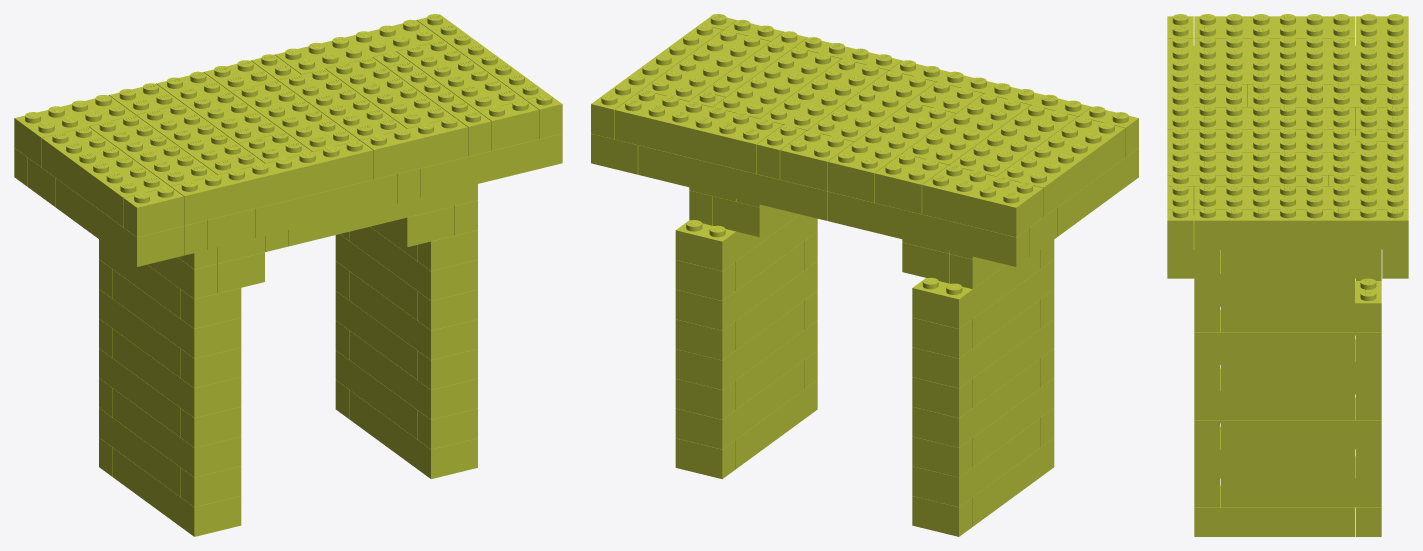
Rendered from brickgpt_cf206c2c_4_a_fancy_dining_table_seed789.glb.
3 renders of one model, left to right at view 1: azimuth 30°, elevation 25°; view 2: azimuth 150°, elevation 25°; view 3: azimuth 270°, elevation 25°, orthographic.
Visible parts, largest first — view 1: 00082_3008.DAT, 00084_2456.DAT, 00051_2456.DAT, 00057_2456.DAT, 00074_3010.DAT, 00012_2456.DAT, 00004_2456.DAT, 00028_2456.DAT, 00020_2456.DAT, 00010_2456.DAT, 00018_2456.DAT, 00063_2456.DAT (+45 smaller); view 2: 00071_2456.DAT, 00084_2456.DAT, 00083_3001.DAT, 00061_3008.DAT, 00053_3008.DAT, 00077_2456.DAT, 00031_2456.DAT, 00023_2456.DAT, 00005_2456.DAT, 00015_2456.DAT, 00007_2456.DAT, 00021_2456.DAT (+41 smaller); view 3: 00064_3008.DAT, 00029_2456.DAT, 00013_2456.DAT, 00002_2456.DAT, 00005_2456.DAT, 00010_2456.DAT, 00021_2456.DAT, 00026_2456.DAT, 00048_2456.DAT, 00018_2456.DAT, 00033_3009.DAT, 00080_2456.DAT (+30 smaller).
Boxes of the visible parts, box(x1,y1,x2,y2) form: 00082_3008.DAT: box(171, 140, 373, 225); 00084_2456.DAT: box(41, 126, 169, 227); 00051_2456.DAT: box(420, 133, 562, 197); 00057_2456.DAT: box(255, 174, 396, 237); 00074_3010.DAT: box(360, 117, 467, 179); 00012_2456.DAT: box(112, 388, 241, 477); 00004_2456.DAT: box(112, 448, 241, 536); 00028_2456.DAT: box(112, 269, 241, 358); 00020_2456.DAT: box(112, 329, 241, 417); 00010_2456.DAT: box(349, 330, 477, 419); 00018_2456.DAT: box(349, 271, 477, 360); 00063_2456.DAT: box(55, 178, 183, 266); 00071_2456.DAT: box(614, 90, 782, 173); 00084_2456.DAT: box(997, 116, 1125, 217); 00083_3001.DAT: box(922, 165, 1043, 237); 00061_3008.DAT: box(827, 191, 1029, 266); 00053_3008.DAT: box(638, 145, 827, 220); 00077_2456.DAT: box(827, 102, 955, 202); 00031_2456.DAT: box(912, 249, 1040, 328); 00023_2456.DAT: box(912, 299, 1040, 388); 00005_2456.DAT: box(675, 360, 803, 449); 00015_2456.DAT: box(912, 358, 1040, 447); 00007_2456.DAT: box(912, 418, 1040, 506); 00021_2456.DAT: box(675, 241, 803, 330); 00064_3008.DAT: box(1194, 207, 1408, 249); 00029_2456.DAT: box(1221, 278, 1381, 332); 00013_2456.DAT: box(1221, 397, 1381, 449); 00002_2456.DAT: box(1194, 485, 1354, 536); 00005_2456.DAT: box(1221, 456, 1381, 507); 00010_2456.DAT: box(1194, 427, 1354, 478); 00021_2456.DAT: box(1221, 339, 1381, 390); 00026_2456.DAT: box(1194, 310, 1354, 361); 00048_2456.DAT: box(1221, 249, 1381, 278); 00018_2456.DAT: box(1194, 368, 1354, 419); 00033_3009.DAT: box(1194, 263, 1354, 303); 00080_2456.DAT: box(1194, 59, 1354, 107).
Size of the model in its own units: 0.1438 by 0.1167 by 0.0718.
